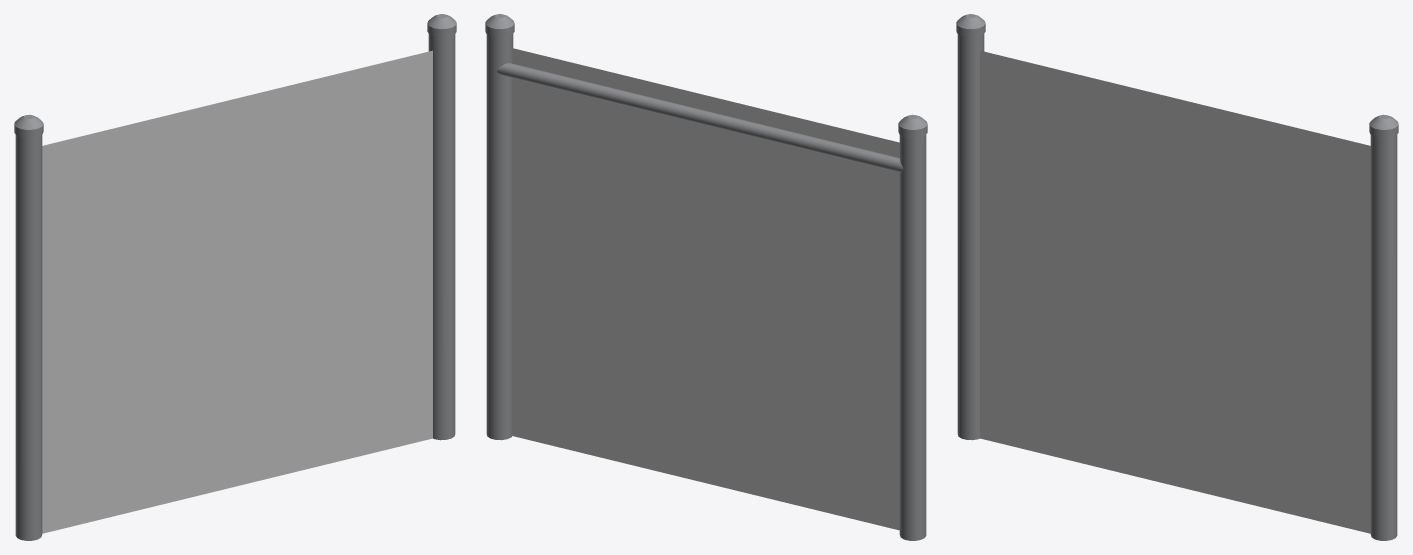
File: Modular Chainlink Fence.fbx
The picture shows the model from 3 angles, left to right: view 1: azimuth 30°, elevation 25°; view 2: azimuth 150°, elevation 25°; view 3: azimuth 330°, elevation 25°; orthographic projection.
Visible parts, largest first — view 1: Fence_Plane, Fence_Post1, Fence_Post; view 2: Fence_Plane, Fence_Post1, Fence_Post, Fence_Back_Post; view 3: Fence_Plane, Fence_Post, Fence_Post1.
Boxes of the visible parts, x1,y1,x2,y2 form: Fence_Plane: [42, 50, 432, 533]; Fence_Post1: [14, 114, 43, 540]; Fence_Post: [427, 14, 456, 440]; Fence_Plane: [512, 48, 899, 530]; Fence_Post1: [898, 114, 927, 540]; Fence_Post: [485, 14, 514, 440]; Fence_Back_Post: [497, 63, 903, 172]; Fence_Plane: [980, 50, 1370, 533]; Fence_Post: [1369, 114, 1398, 540]; Fence_Post1: [956, 14, 985, 440].
Bounding box in the file's own units: 277 × 253 × 15.78.
